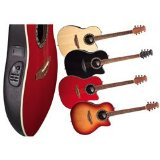guitar: (1, 22, 59, 139), (57, 72, 149, 110), (69, 100, 160, 136), (56, 25, 148, 57), (63, 48, 155, 79)
